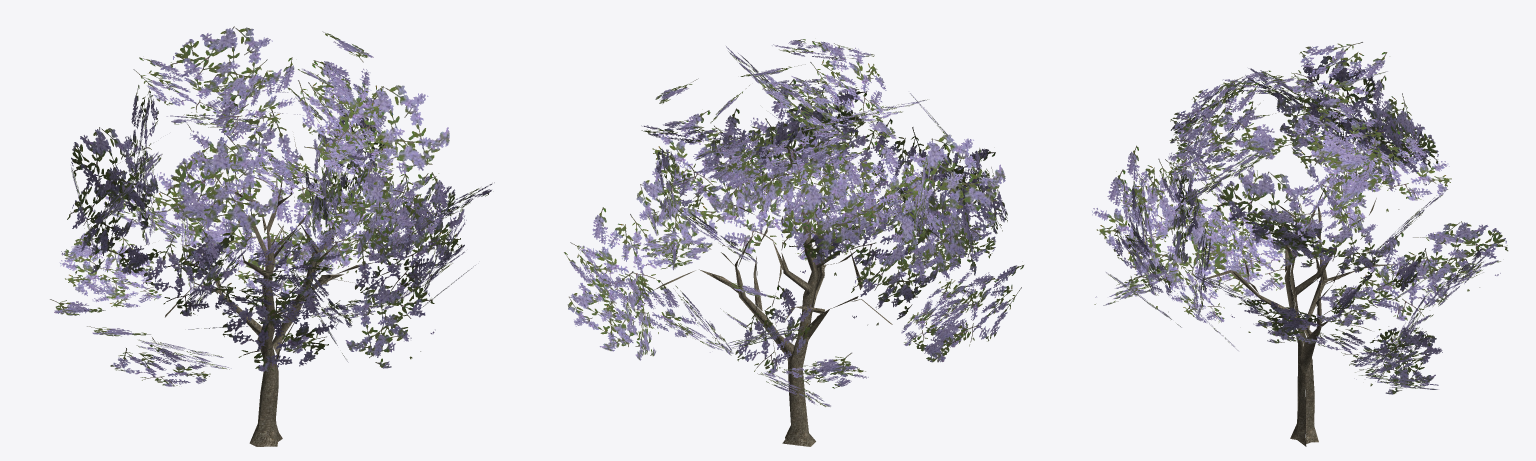
File: jacaranda_young_lod1.glb
The picture shows the model from 3 angles, left to right: view 1: azimuth 30°, elevation 25°; view 2: azimuth 150°, elevation 25°; view 3: azimuth 270°, elevation 25°; orthographic projection. The views are drawn at different scales.
Visible parts, largest first — view 1: jacaranda_young_lod1; view 2: jacaranda_young_lod1; view 3: jacaranda_young_lod1.
Boxes of the visible parts, left/top/right/bottom form: jacaranda_young_lod1: left=50, top=26, right=494, bottom=446; jacaranda_young_lod1: left=564, top=39, right=1023, bottom=446; jacaranda_young_lod1: left=1092, top=42, right=1508, bottom=446.
Size of the model in its own units: 5.76 by 5.26 by 5.63.
2 materials, 2 textured.
